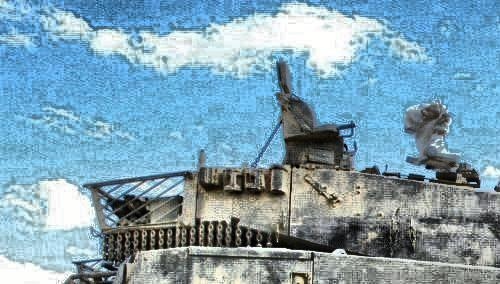tanks: (67, 65, 500, 284)
